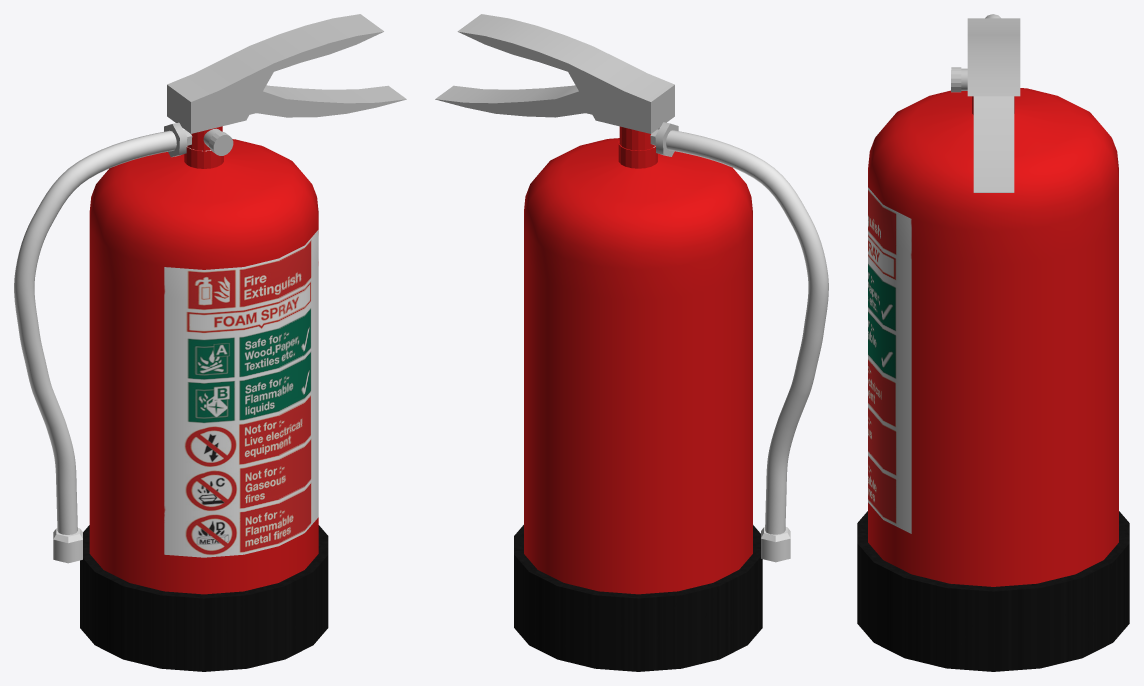
The model's file is fire exting.fbx.
3 renders of one model, left to right at view 1: azimuth 30°, elevation 25°; view 2: azimuth 150°, elevation 25°; view 3: azimuth 270°, elevation 25°, orthographic. The views are drawn at different scales.
Visible parts, largest first — view 1: Cylinder001, Line001, Box001, Box002, Cylinder002; view 2: Cylinder001, Line001, Box001, Box002; view 3: Cylinder001, Box001, Box002, Cylinder002.
Part boxes in pixels (bbox=[...]): Cylinder001: bbox=[80, 126, 328, 671]; Line001: bbox=[14, 130, 176, 563]; Box001: bbox=[167, 14, 383, 133]; Box002: bbox=[250, 85, 406, 117]; Cylinder002: bbox=[203, 128, 233, 155]; Cylinder001: bbox=[514, 126, 762, 671]; Line001: bbox=[666, 130, 828, 562]; Box001: bbox=[457, 14, 674, 133]; Box002: bbox=[435, 85, 591, 117]; Cylinder001: bbox=[857, 88, 1129, 671]; Box001: bbox=[967, 18, 1020, 96]; Box002: bbox=[973, 96, 1014, 192]; Cylinder002: bbox=[951, 67, 967, 92].
Size of the model in its own units: 56.53 by 78.61 by 31.79.
